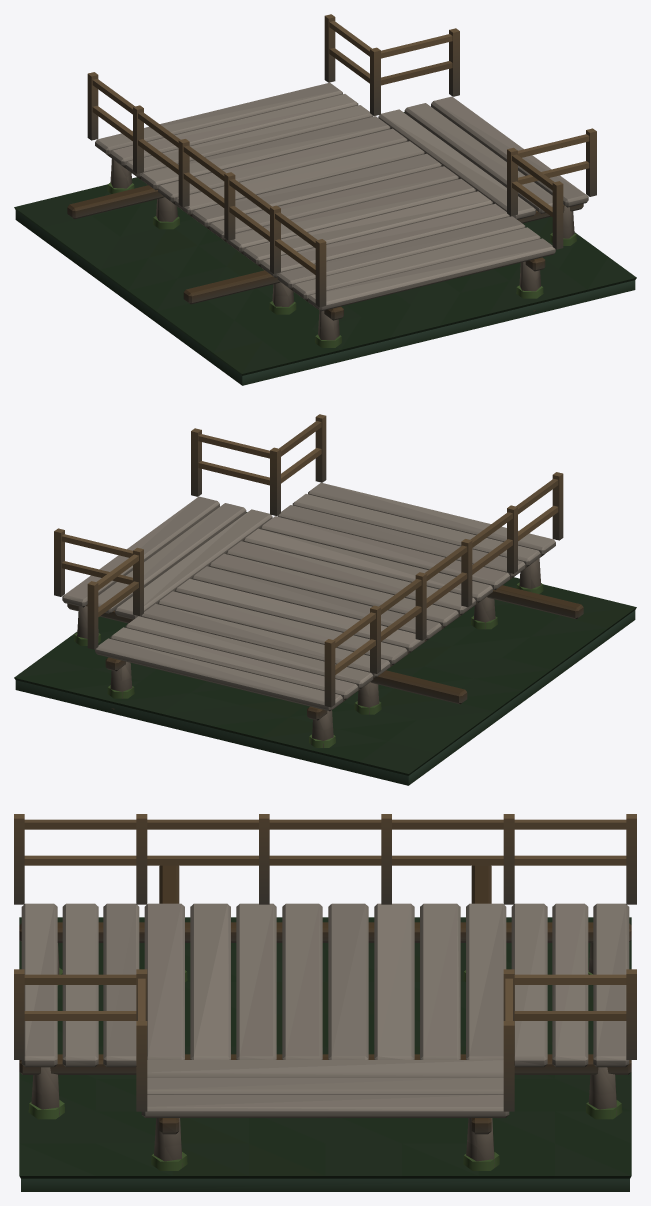
File: road-boardwalk-t.glb
The picture shows the model from 3 angles, top to bottom: view 1: azimuth 30°, elevation 25°; view 2: azimuth 150°, elevation 25°; view 3: azimuth 270°, elevation 25°; orthographic projection. The views are drawn at different scales.
Parts seen in each view (by area): view 1: road_boardwalk_t; view 2: road_boardwalk_t; view 3: road_boardwalk_t.
Part boxes in pixels (x1=…): road_boardwalk_t: x1=14, y1=14, x2=636, y2=385; road_boardwalk_t: x1=14, y1=414, x2=636, y2=785; road_boardwalk_t: x1=14, y1=814, x2=636, y2=1191.
Bounding box in the file's own units: 4.03 × 1.25 × 4.07.
